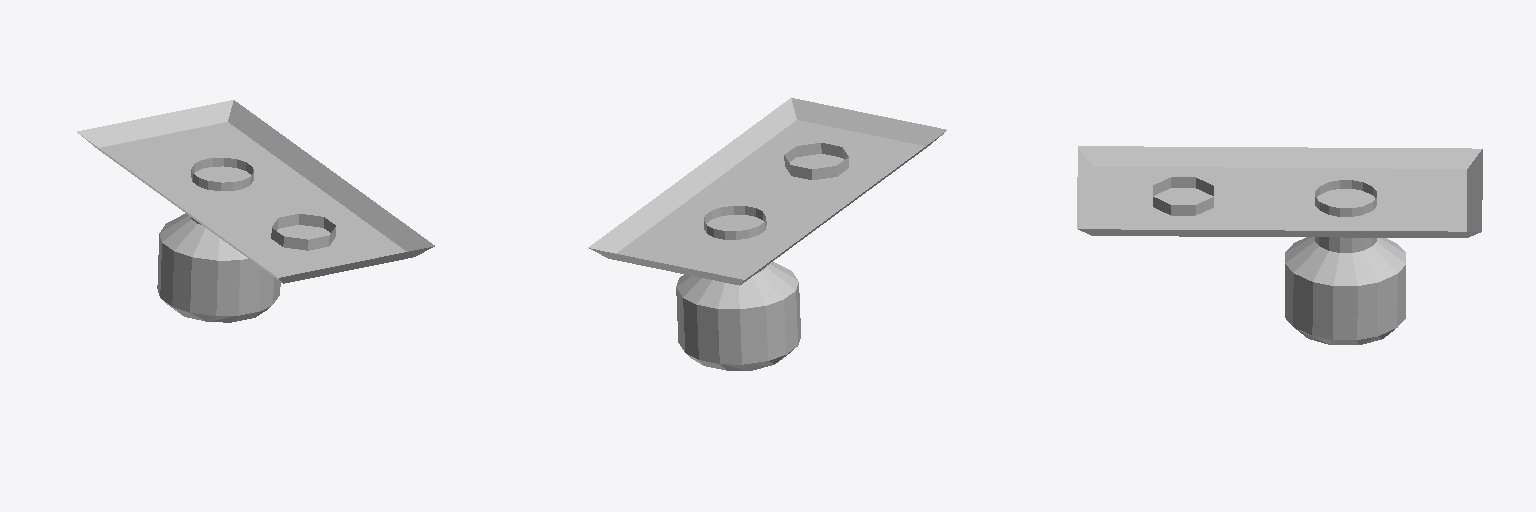
The model's file is doorknob.obj.
3 renders of one model, left to right at view 1: azimuth 30°, elevation 25°; view 2: azimuth 150°, elevation 25°; view 3: azimuth 270°, elevation 25°, orthographic.
Parts seen in each view (by area): view 1: am_door_detail01; view 2: am_door_detail01; view 3: am_door_detail01.
Part boxes in pixels (left/top/right/bottom): am_door_detail01: left=77, top=100, right=434, bottom=322; am_door_detail01: left=588, top=98, right=946, bottom=370; am_door_detail01: left=1077, top=146, right=1482, bottom=344.
Bounding box in the file's own units: 5.26 × 4.53 × 11.67.